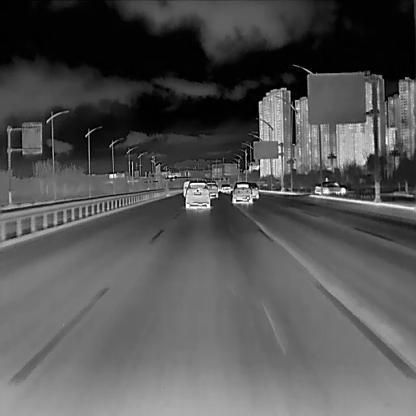car: (185, 180, 210, 208), (232, 182, 252, 203), (314, 181, 346, 194), (205, 182, 218, 198), (248, 182, 259, 198), (183, 180, 191, 196), (222, 184, 230, 193)
